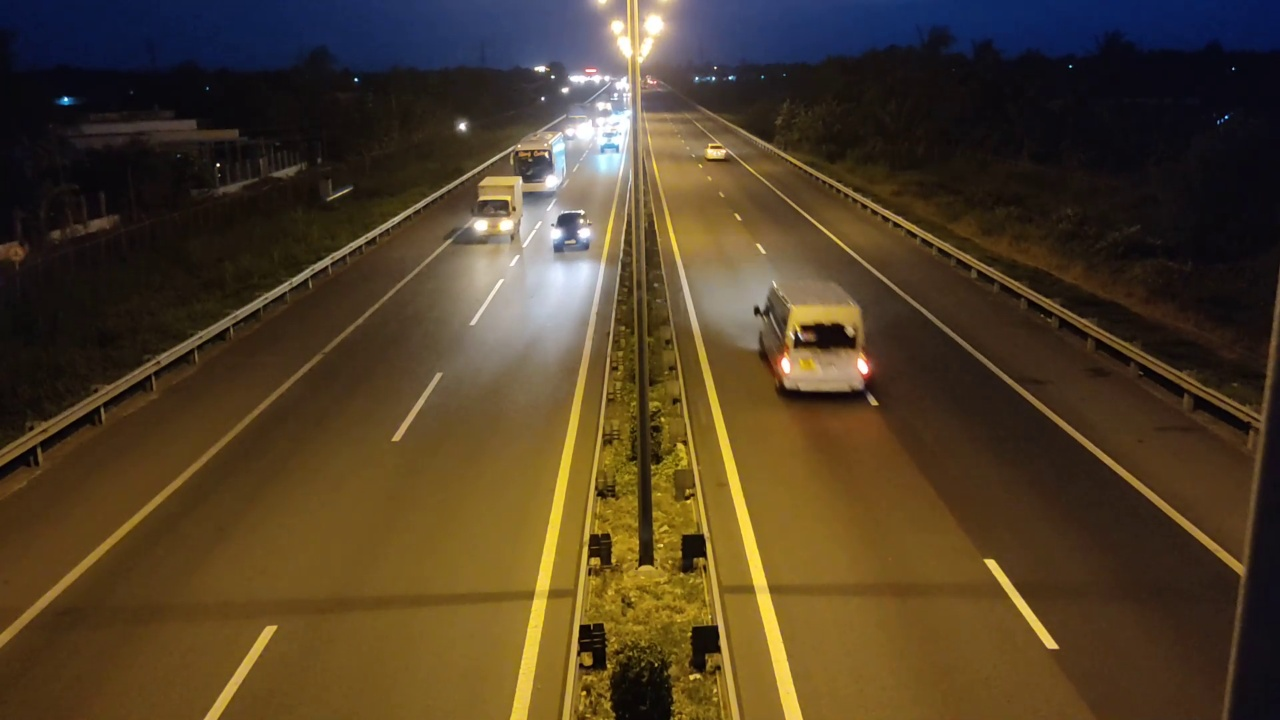car: (753, 276, 877, 401), (549, 209, 593, 253), (705, 145, 729, 161)
truck: (512, 129, 569, 194), (471, 175, 523, 243)
